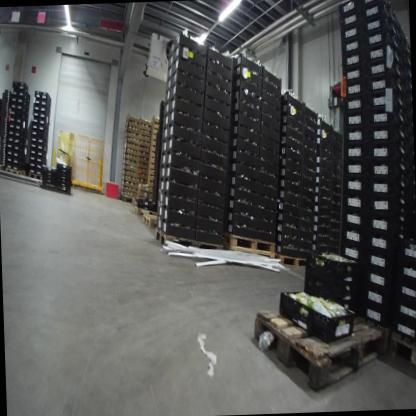pallet: (250, 288, 385, 392), (342, 303, 389, 360), (151, 225, 226, 258), (222, 229, 278, 260), (387, 323, 416, 377), (274, 247, 317, 269), (40, 175, 72, 195), (141, 211, 166, 233), (134, 204, 162, 219), (119, 192, 142, 204), (5, 165, 30, 176), (25, 169, 45, 181), (131, 197, 144, 210), (0, 162, 4, 173)
